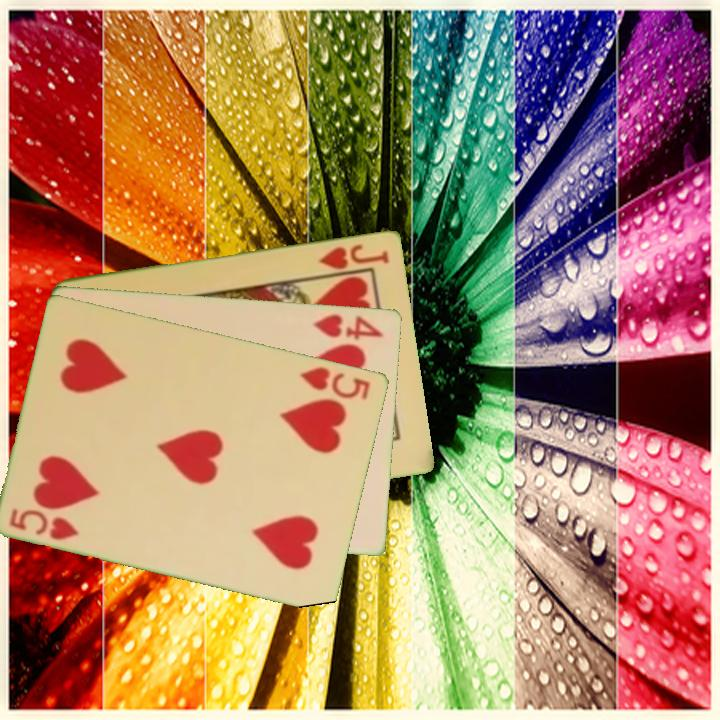4h: (311, 310, 386, 343)
5h: (297, 363, 373, 402), (6, 504, 82, 543)
Jh: (315, 240, 392, 272)
